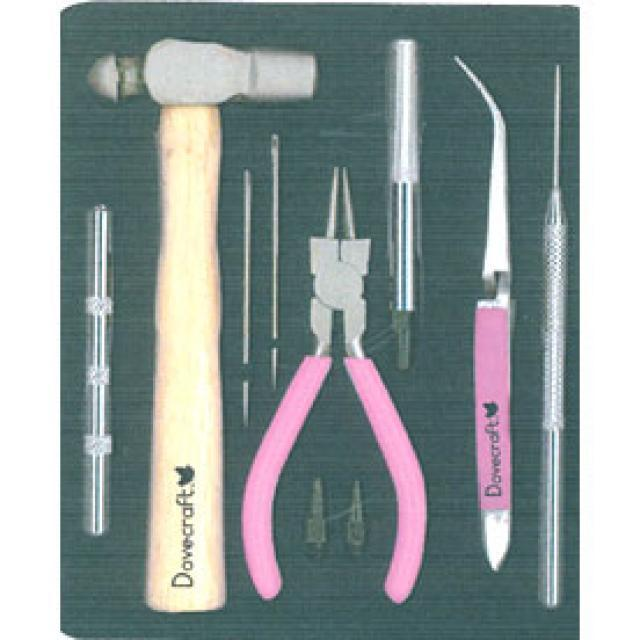hammer: (81, 24, 321, 626)
pliers: (232, 134, 443, 633)
